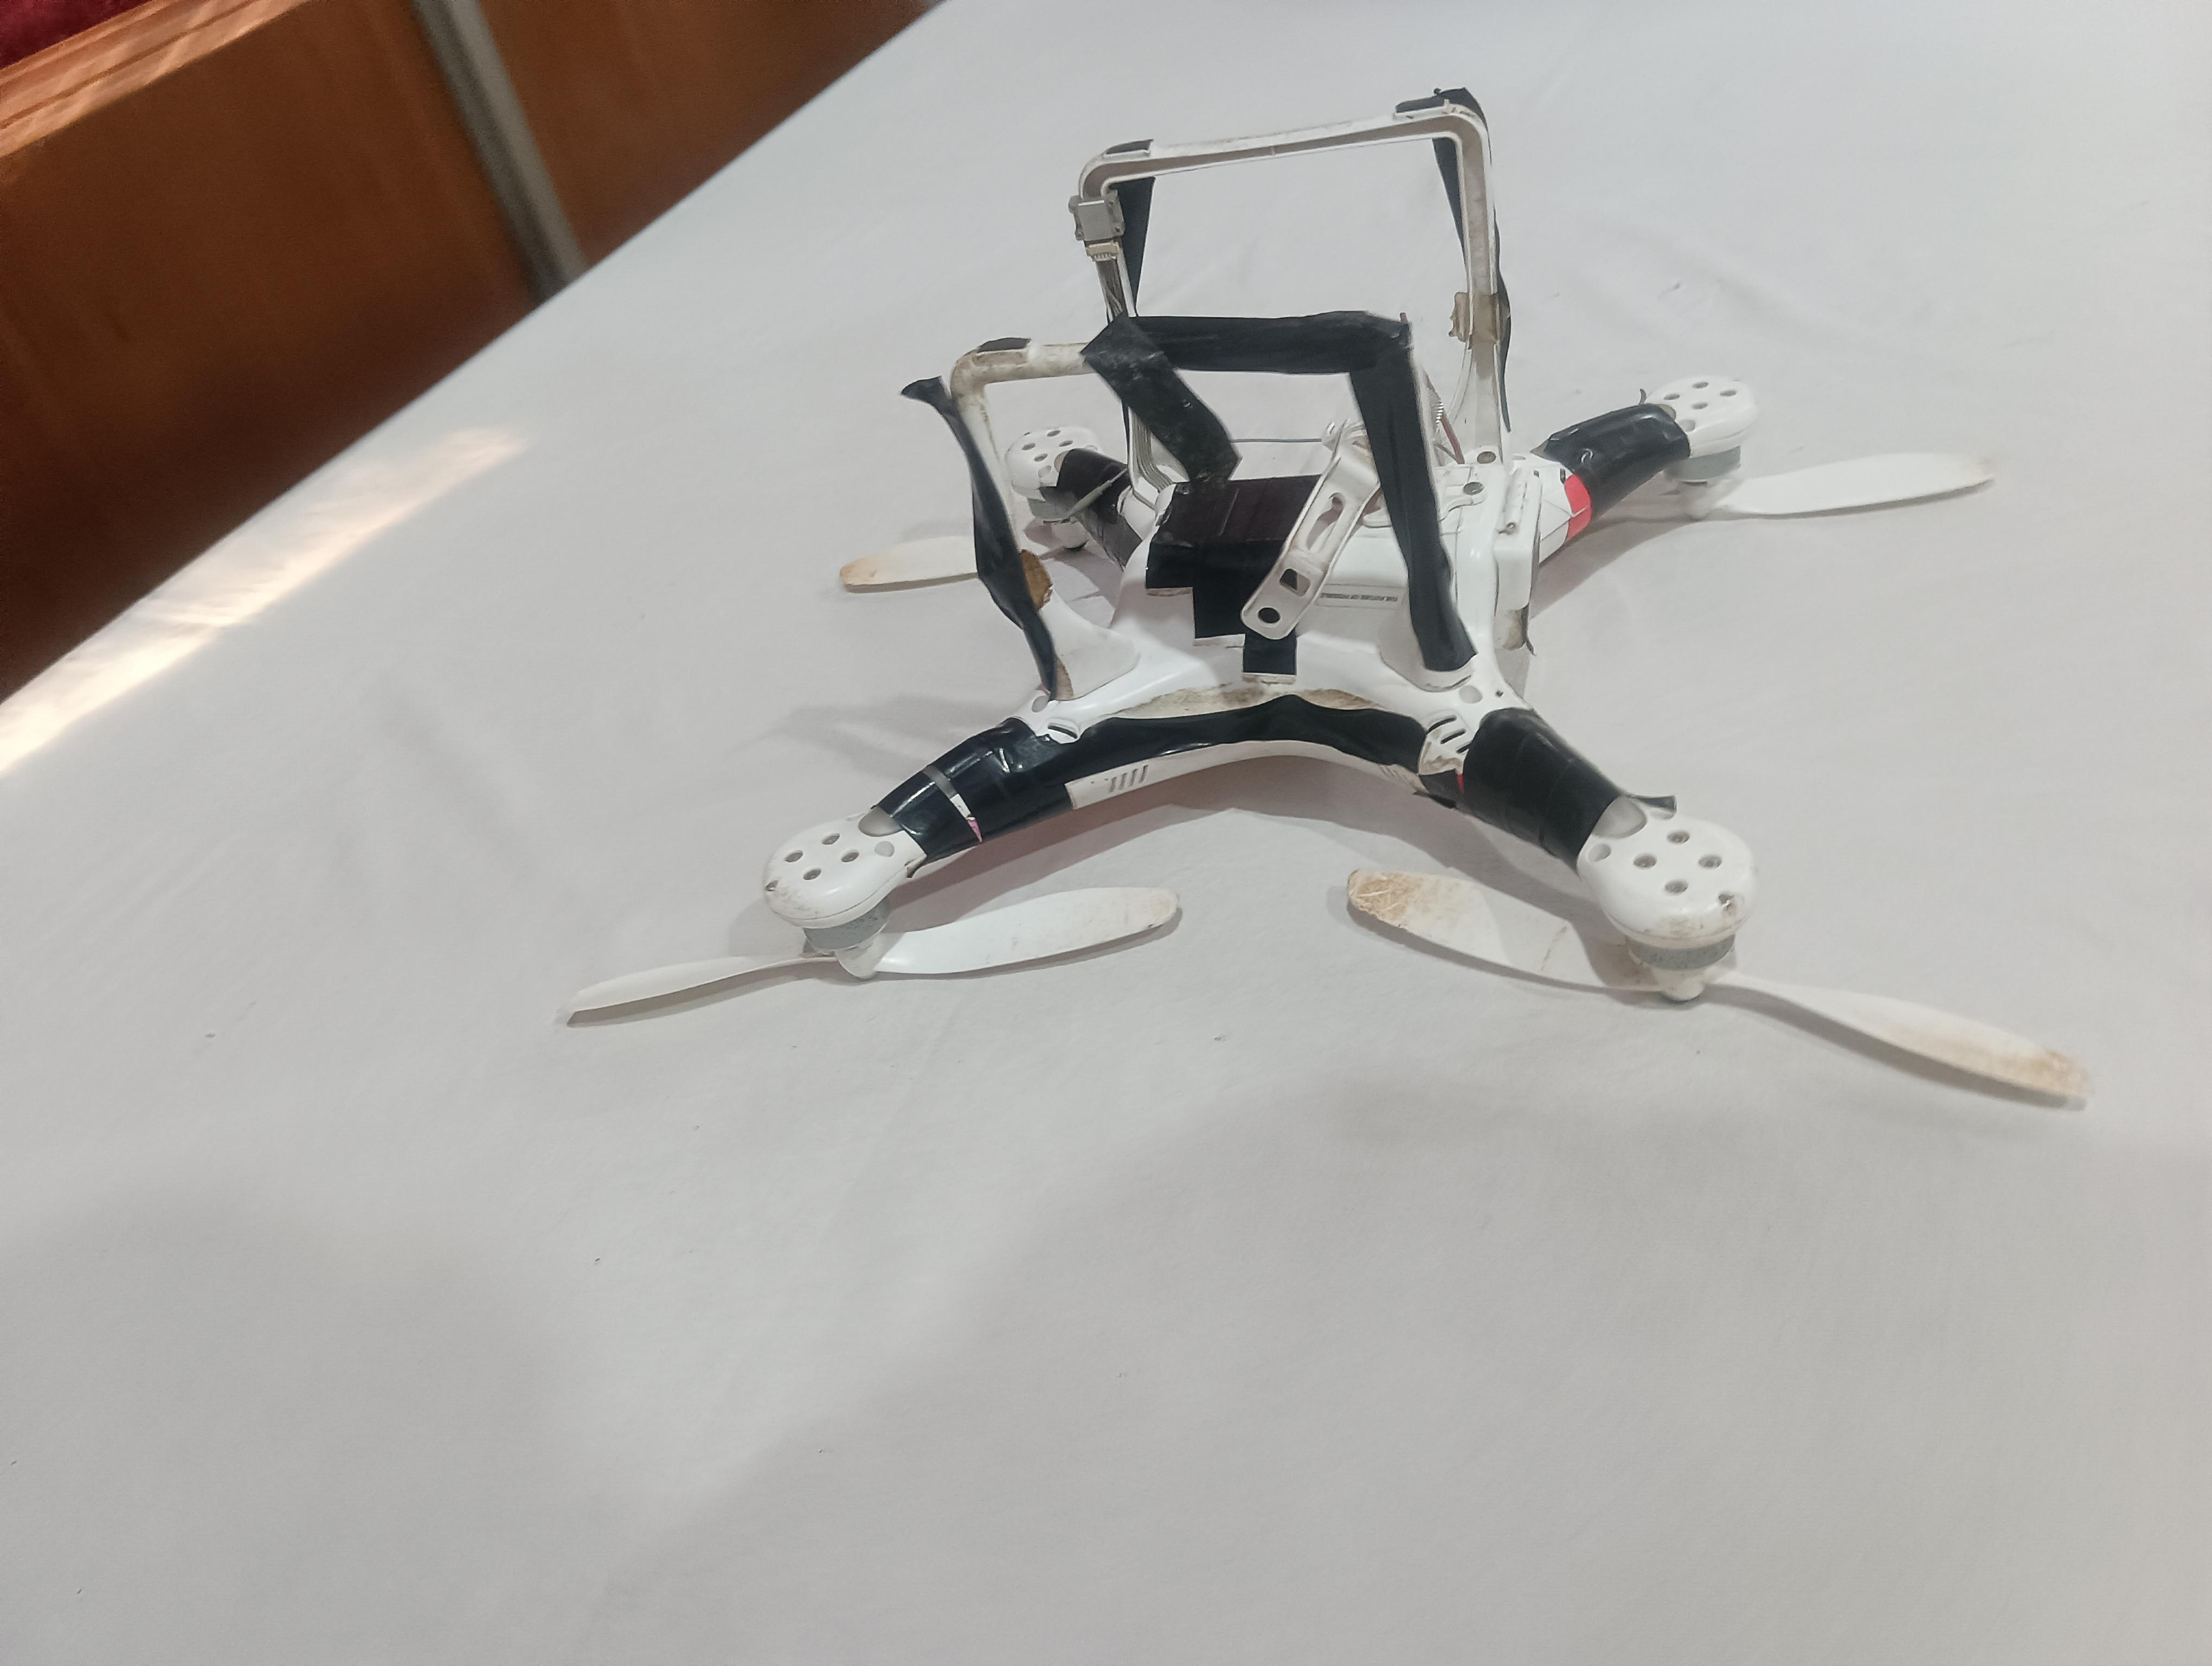drone: (551, 73, 2105, 1109)
